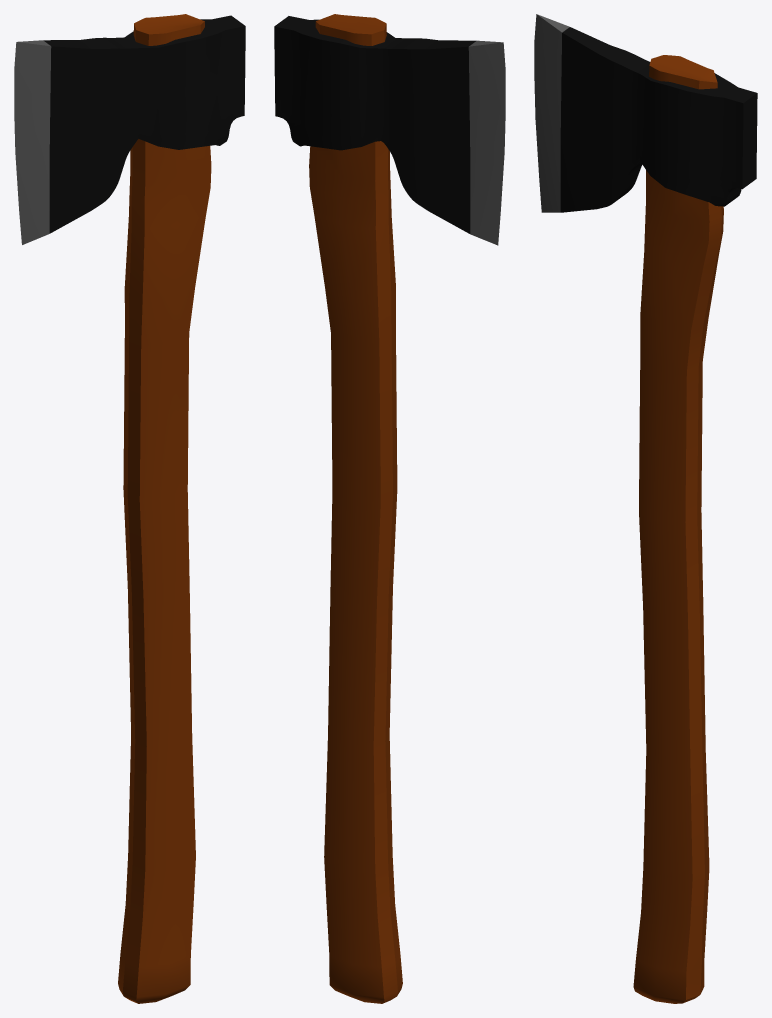
Rendered from axe.fbx.
The picture shows the model from 3 angles, left to right: view 1: azimuth 30°, elevation 25°; view 2: azimuth 150°, elevation 25°; view 3: azimuth 330°, elevation 25°; orthographic projection. The views are drawn at different scales.
Visible parts, largest first — view 1: Axe; view 2: Axe; view 3: Axe.
Part boxes in pixels (x1=…): Axe: x1=14, y1=14, x2=245, y2=1003; Axe: x1=274, y1=14, x2=505, y2=1003; Axe: x1=534, y1=14, x2=757, y2=1003.
Size of the model in its own units: 7.03 by 29.55 by 1.57.
